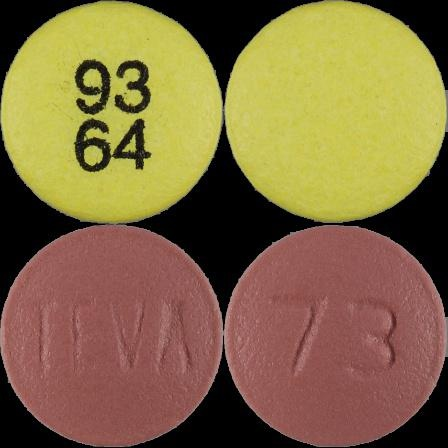0093-0064: (0, 0, 224, 224)
